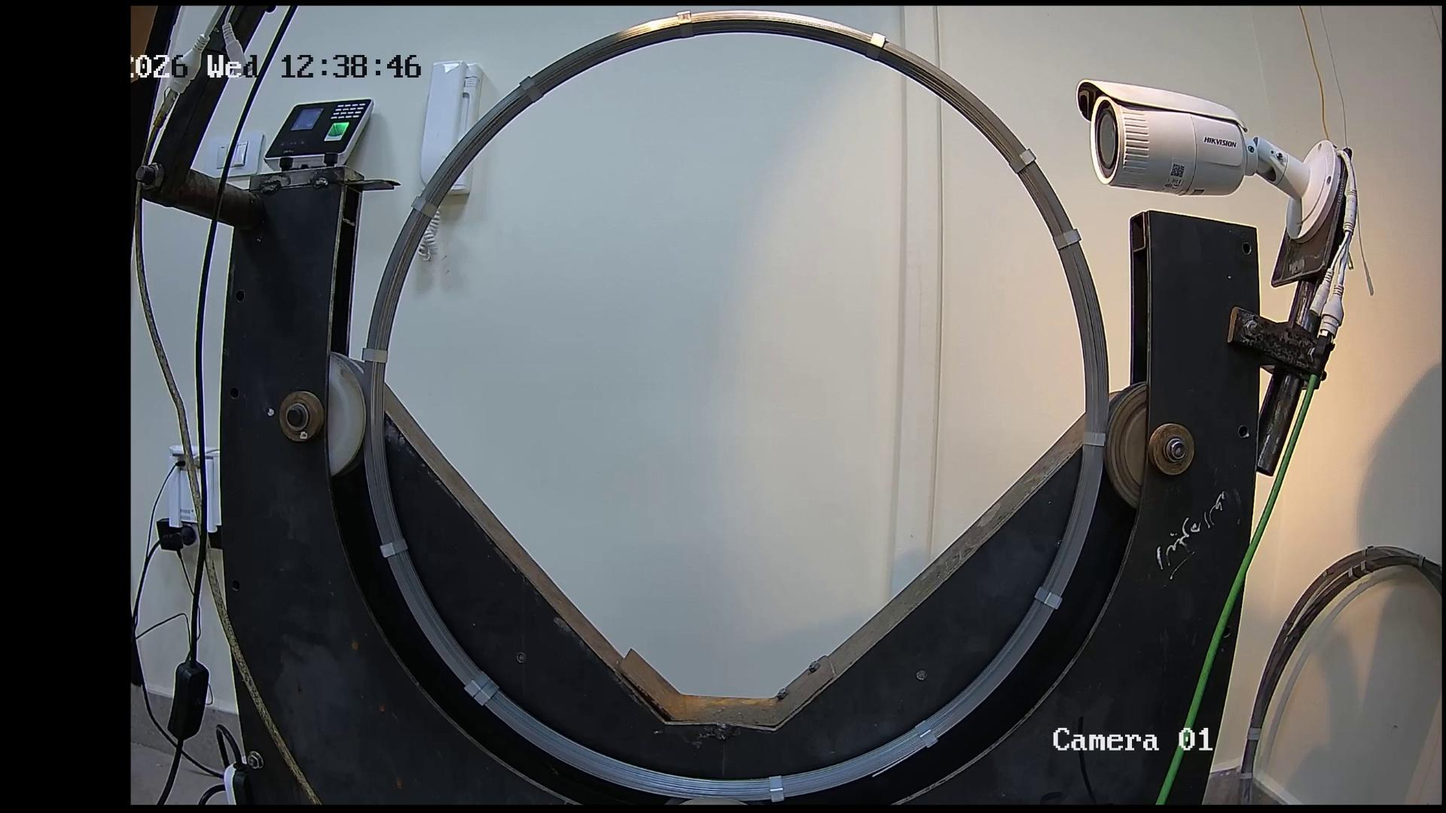clamp: (1028, 572, 1081, 617), (996, 141, 1043, 184), (849, 17, 892, 64), (747, 768, 796, 809), (661, 2, 706, 45), (512, 72, 555, 113), (1073, 418, 1115, 454), (904, 717, 945, 753), (1049, 226, 1092, 260), (371, 536, 420, 565), (399, 198, 448, 226), (358, 333, 395, 367), (444, 668, 495, 687), (478, 691, 505, 713)
